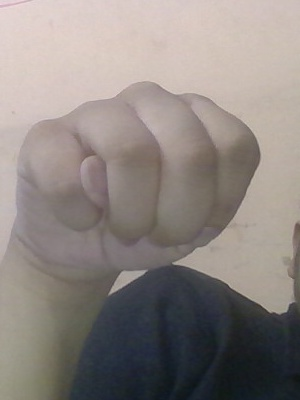M: (14, 68, 267, 320)
